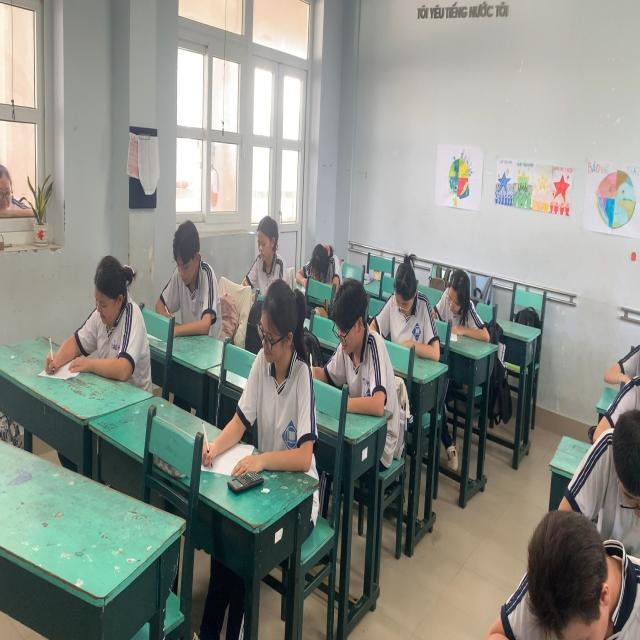not_cheating: (517, 489, 640, 639), (253, 280, 313, 478), (75, 246, 149, 391), (332, 286, 396, 434), (382, 246, 434, 372), (168, 212, 219, 334), (442, 253, 482, 349), (242, 205, 286, 288), (306, 235, 340, 289)
